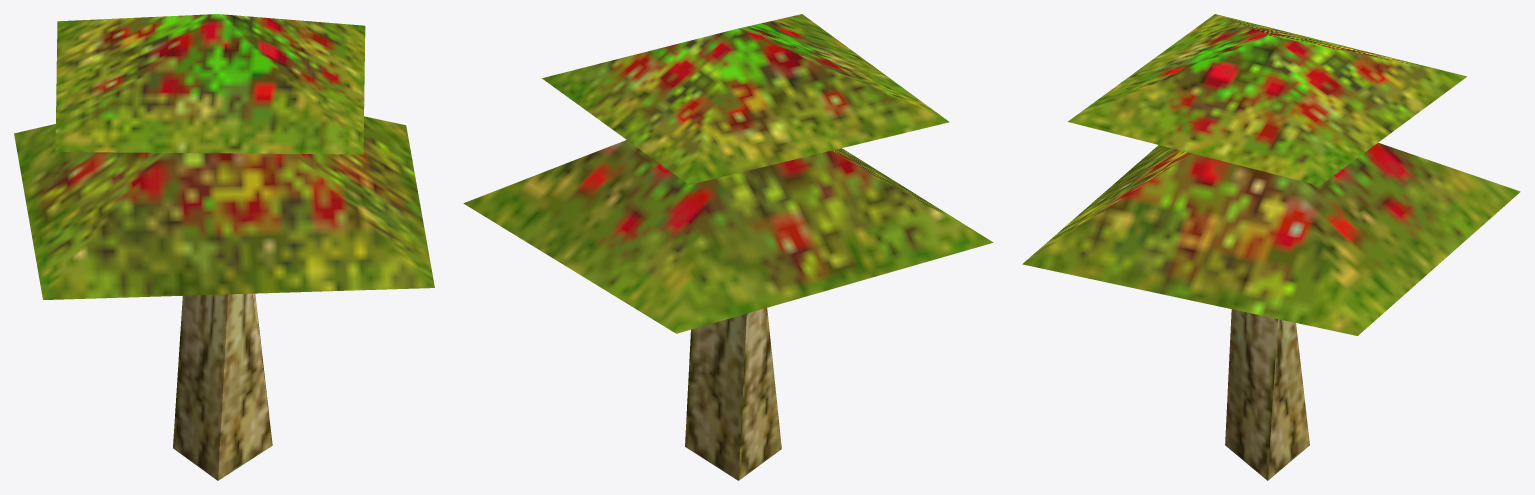
Rendered from berry_base.glb.
3 renders of one model, left to right at view 1: azimuth 30°, elevation 25°; view 2: azimuth 150°, elevation 25°; view 3: azimuth 270°, elevation 25°, orthographic. The views are drawn at different scales.
Visible parts, largest first — view 1: MeshRoot; view 2: MeshRoot; view 3: MeshRoot.
Part boxes in pixels (x1,y1,x2,y2): MeshRoot: [14, 14, 434, 480]; MeshRoot: [463, 14, 993, 480]; MeshRoot: [1022, 14, 1520, 480].
Bounding box in the file's own units: 2.22 × 2.07 × 2.23.
1 material, 1 textured.
